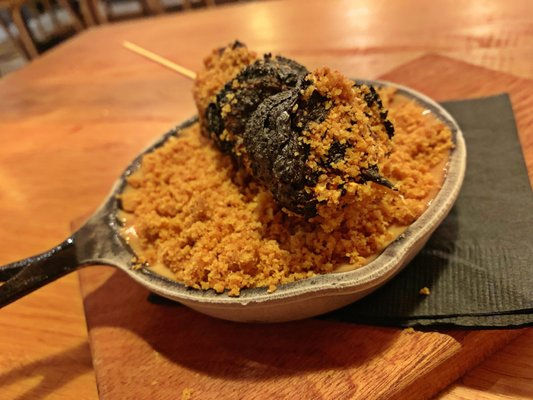curry: (1, 0, 530, 400)
sushi: (112, 40, 455, 295)
